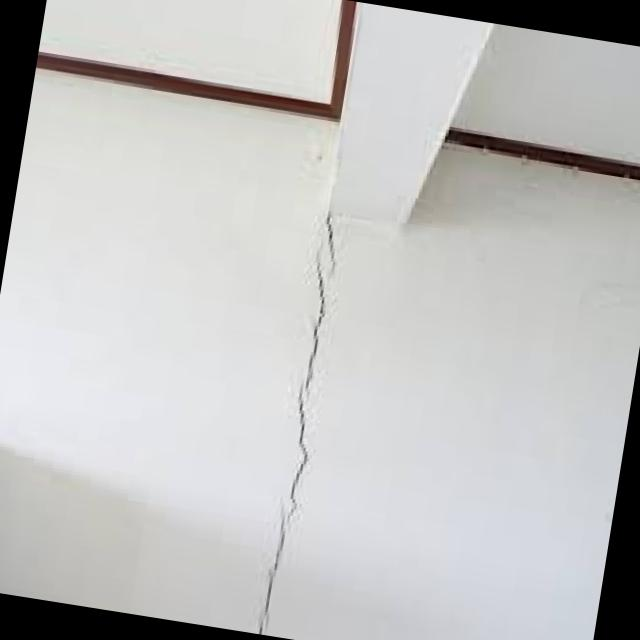crack: (250, 206, 346, 634)
